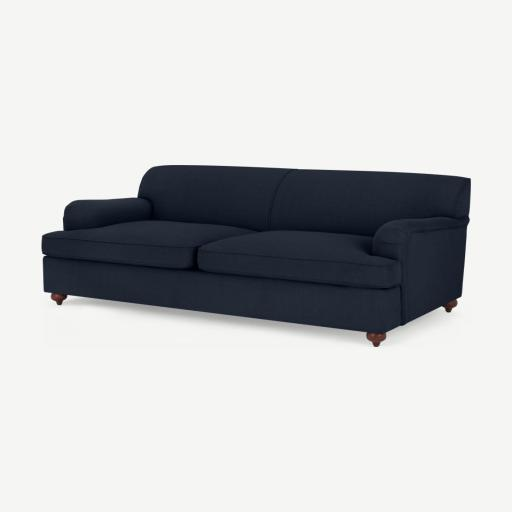back_cushion: (140, 165, 470, 236)
base: (44, 256, 400, 332)
left_arm: (373, 217, 467, 324)
legs: (367, 332, 386, 347), (51, 293, 67, 305), (443, 299, 457, 312)
right_arm: (64, 198, 152, 230)
seat_cushion: (43, 221, 400, 287)
two-seater: (0, 0, 511, 512)
